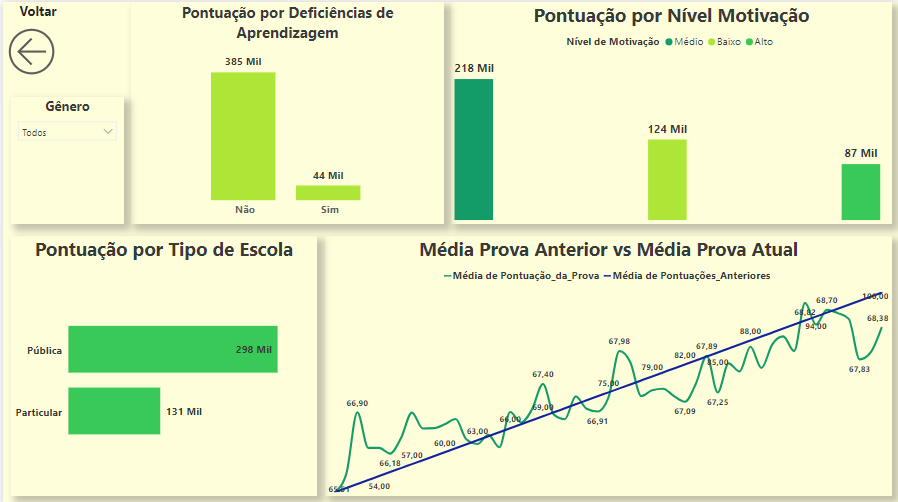

Layout of this report page (visuals, bound fields, positions):
{"tool":"powerbi","page":{"name":"DESEMP. ACADÊMICO","canvas":[1280,720],"ordinal":1},"visuals":[{"type":"lineChart","title":"Média Prova Anterior vs Média Prova Atual","fields":{"Y":["Avg(tb_alunos.Pontuação_da_Prova)"],"Category":["tb_alunos.Pontuações_Anteriores"],"Y2":["Avg(tb_alunos.Pontuações_Anteriores)"]},"box":[460,334.3,810,371.4],"z":0},{"type":"barChart","title":"Pontuação por Tipo de Escola","fields":{"Category":["tb_alunos.Tipo_de_Escola"],"Y":["Sum(tb_alunos.Pontuação_da_Prova)"]},"box":[11.4,334.3,437.1,371.4],"z":1000},{"type":"clusteredColumnChart","title":"Pontuação por Nível Motivação","fields":{"Y":["Sum(tb_alunos.Pontuação_da_Prova)"],"Category":["tb_alunos.Nível_de_Motivação"],"Series":["tb_alunos.Nível_de_Motivação"]},"box":[640,0,630,317.1],"z":2000},{"type":"columnChart","title":"Pontuação por Deficiências de Aprendizagem","fields":{"Category":["tb_alunos.Deficiências_de_Aprendizagem"],"Y":["Sum(tb_alunos.Pontuação_da_Prova)"]},"box":[182.9,0,447.1,317.1],"z":3000},{"type":"actionButton","title":"Voltar","box":[0,0,100,111.7],"z":4000},{"type":"slicer","title":"Gênero","fields":{"Values":["tb_alunos.Gênero"]},"box":[11.4,135.7,161.4,181.4],"z":4001}]}

Visuals, with their boxes in screenshot pixels (x1, y1, x2, y2), scaled from the page's 1280x720 canvas onto the 898x502 screenshot:
"Média Prova Anterior vs Média Prova Atual" lineChart: (323,233,891,492)
"Pontuação por Tipo de Escola" barChart: (8,233,315,492)
"Pontuação por Nível Motivação" clusteredColumnChart: (449,0,891,221)
"Pontuação por Deficiências de Aprendizagem" columnChart: (128,0,442,221)
"Voltar" actionButton: (0,0,70,78)
"Gênero" slicer: (8,95,121,221)
